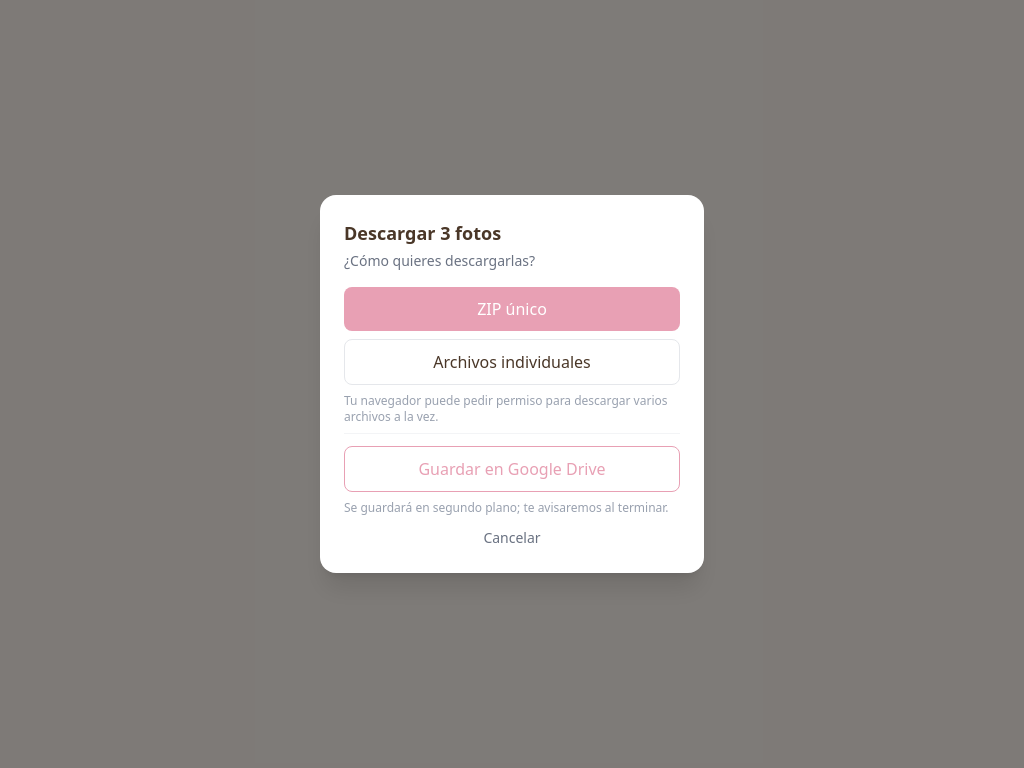
Test case: DownloadDialog › error genérico de Drive se muestra en el diálogo
The width and height of the screenshot is (1024, 768).
Click the button "Guardar en Google Drive".
click(512, 469)  # box [344,446,680,492]
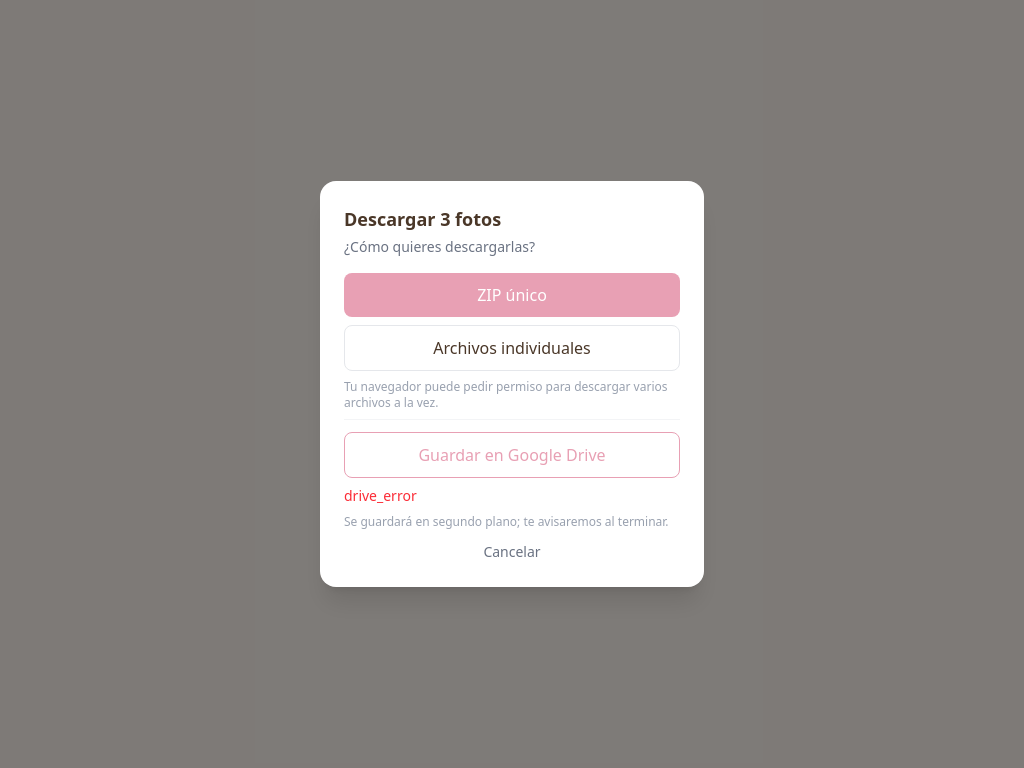
Expected: the text "drive_error" is shown, [344,486,417,505]
